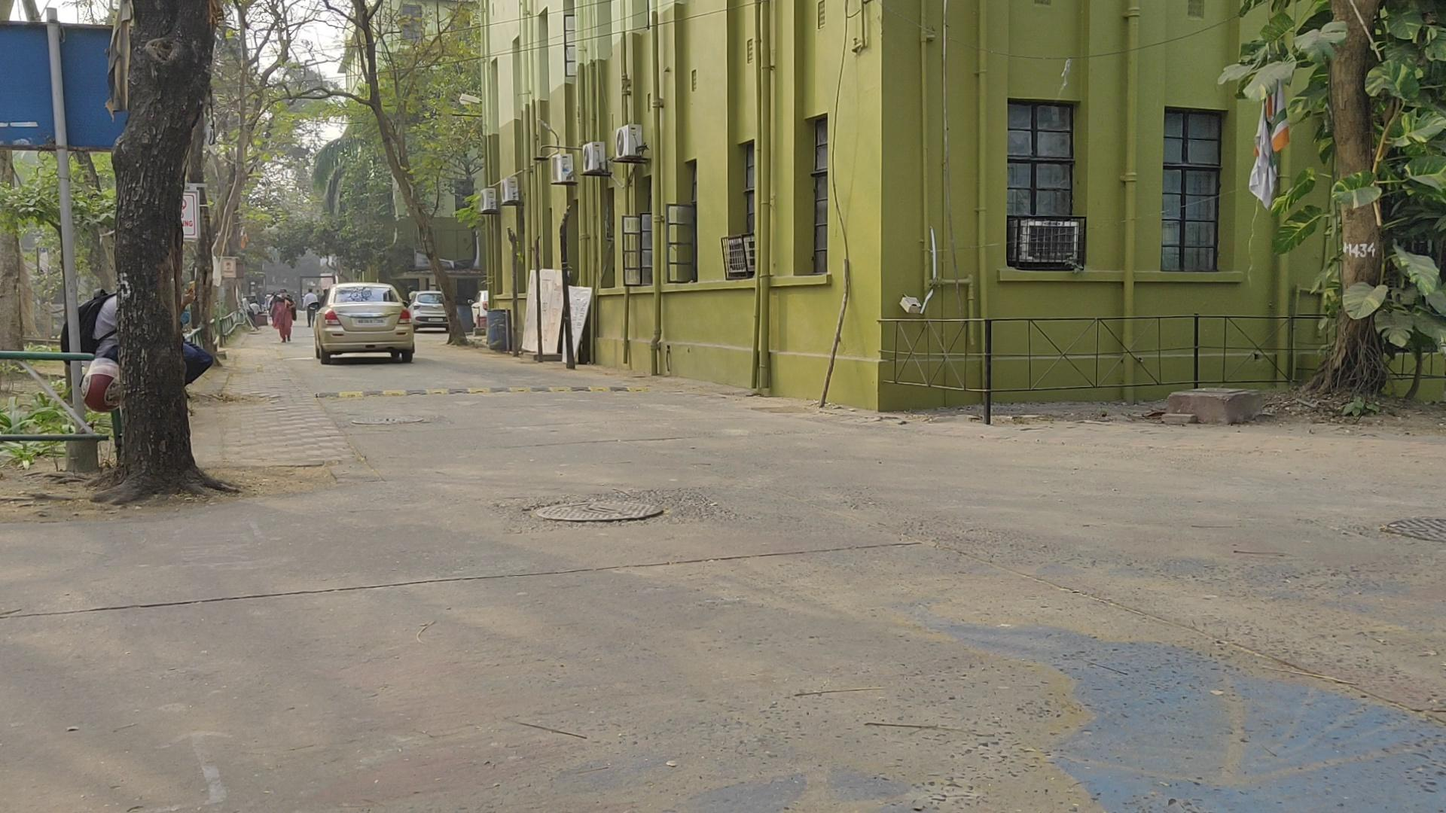car: (315, 283, 413, 368)
